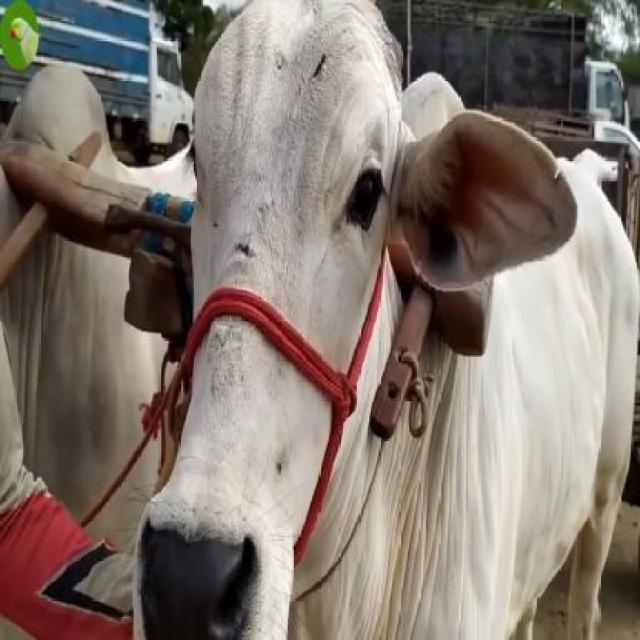Cow: (130, 0, 583, 638)
